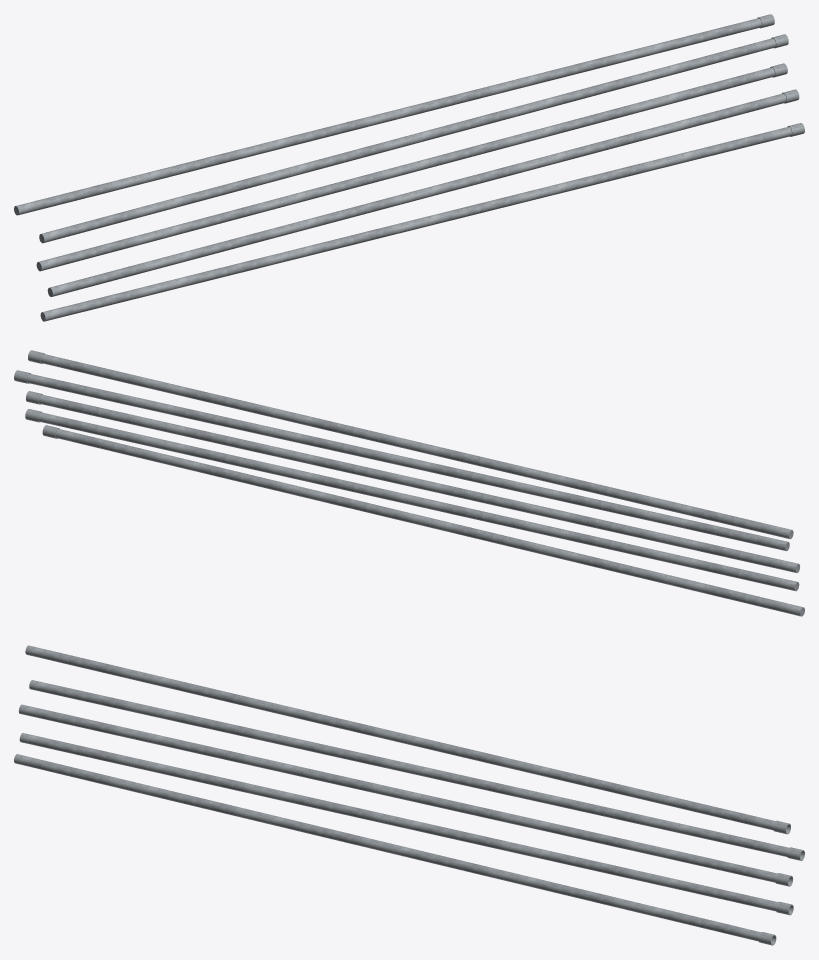
Rendered from ELE-ELD-004_anim.glb.
The picture shows the model from 3 angles, top to bottom: view 1: azimuth 30°, elevation 25°; view 2: azimuth 150°, elevation 25°; view 3: azimuth 330°, elevation 25°; orthographic projection.
Parts seen in each view (by area): view 1: ELE-ELD-004_anim0, ELE-ELD-004_anim4, ELE-ELD-004_anim1, ELE-ELD-004_anim2, ELE-ELD-004_anim3; view 2: ELE-ELD-004_anim3, ELE-ELD-004_anim1, ELE-ELD-004_anim2, ELE-ELD-004_anim4, ELE-ELD-004_anim0; view 3: ELE-ELD-004_anim3, ELE-ELD-004_anim2, ELE-ELD-004_anim1, ELE-ELD-004_anim4, ELE-ELD-004_anim0.
Part boxes in pixels (left/top/right/bottom): ELE-ELD-004_anim0: left=40, top=123, right=804, bottom=321; ELE-ELD-004_anim4: left=14, top=14, right=774, bottom=215; ELE-ELD-004_anim1: left=47, top=89, right=799, bottom=296; ELE-ELD-004_anim2: left=36, top=63, right=787, bottom=271; ELE-ELD-004_anim3: left=39, top=34, right=788, bottom=243; ELE-ELD-004_anim3: left=14, top=370, right=789, bottom=551; ELE-ELD-004_anim1: left=25, top=409, right=799, bottom=591; ELE-ELD-004_anim2: left=26, top=391, right=800, bottom=572; ELE-ELD-004_anim4: left=28, top=350, right=793, bottom=539; ELE-ELD-004_anim0: left=42, top=425, right=804, bottom=616; ELE-ELD-004_anim3: left=29, top=680, right=804, bottom=860; ELE-ELD-004_anim2: left=19, top=704, right=793, bottom=886; ELE-ELD-004_anim1: left=19, top=733, right=793, bottom=915; ELE-ELD-004_anim4: left=25, top=645, right=790, bottom=834; ELE-ELD-004_anim0: left=14, top=754, right=776, bottom=945.
Size of the model in its own units: 3.06 by 0.3917 by 0.2189.
1 material, 1 textured.
